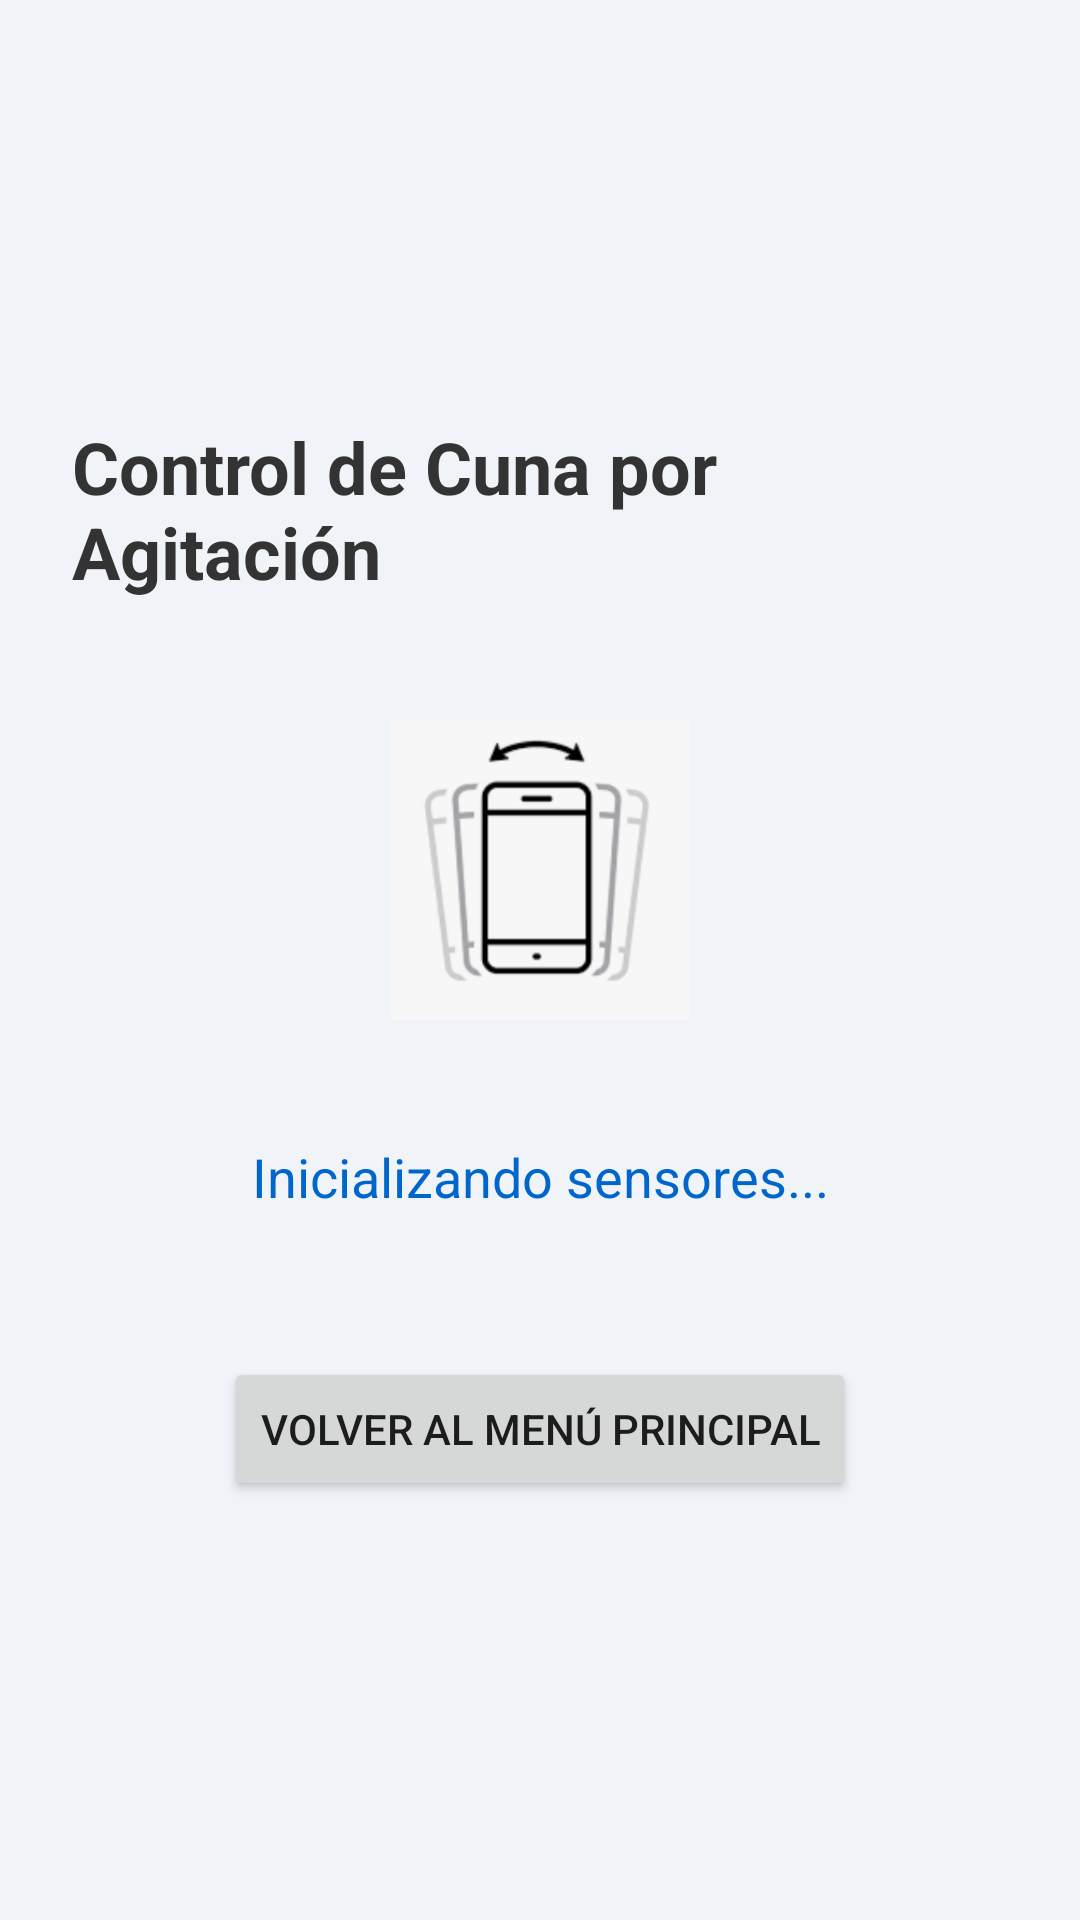

Locate icon controls on the screen. Image size 1080x1920, boxes as (x1, y1, x2, y2).
Icono de agitación: (425, 740, 648, 980)
